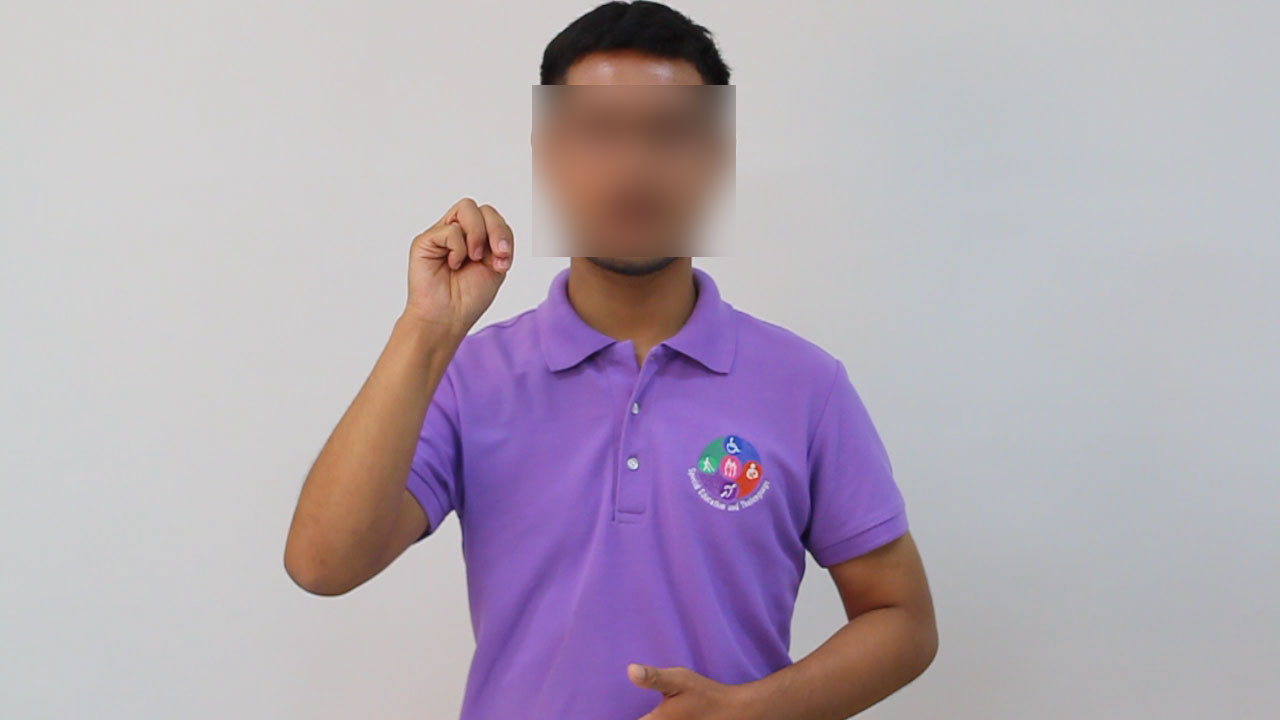mor: (401, 180, 521, 341)
